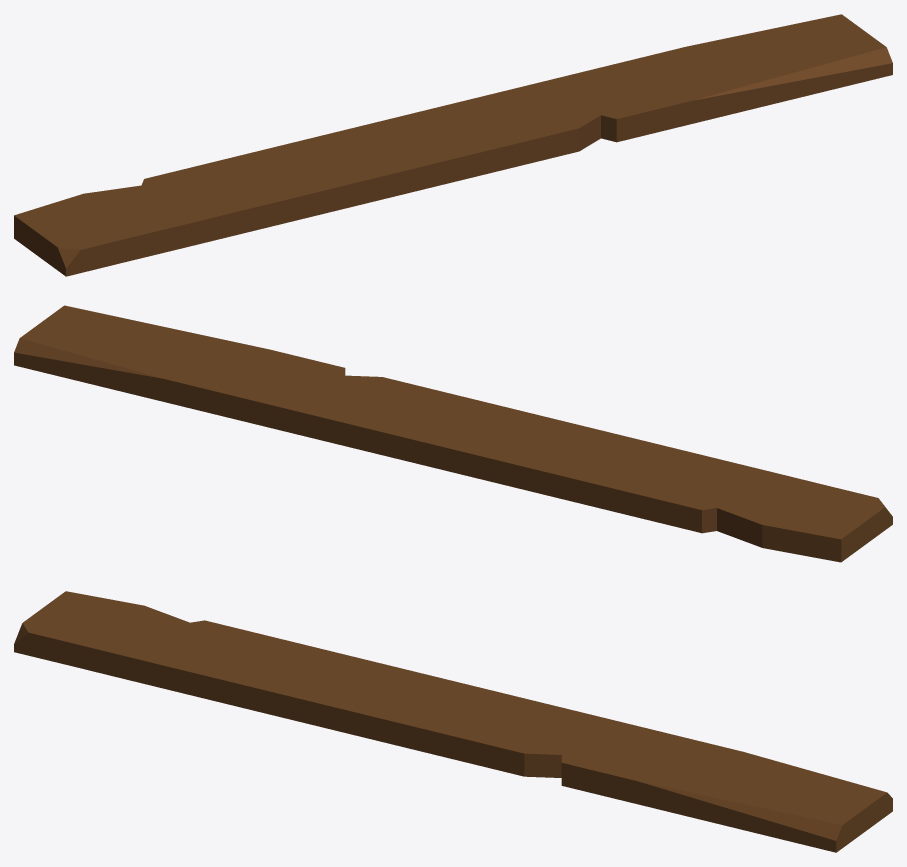
Rendered from WoodenPlank_05.fbx.
3 renders of one model, top to bottom at view 1: azimuth 30°, elevation 25°; view 2: azimuth 150°, elevation 25°; view 3: azimuth 330°, elevation 25°, orthographic.
Visible parts, largest first — view 1: WoodenPlank_05; view 2: WoodenPlank_05; view 3: WoodenPlank_05.
Boxes of the visible parts, bbox=[...] form: WoodenPlank_05: bbox=[14, 14, 892, 276]; WoodenPlank_05: bbox=[14, 305, 892, 562]; WoodenPlank_05: bbox=[14, 591, 892, 852].
Size of the model in its own units: 188 by 5.03 by 22.37.
